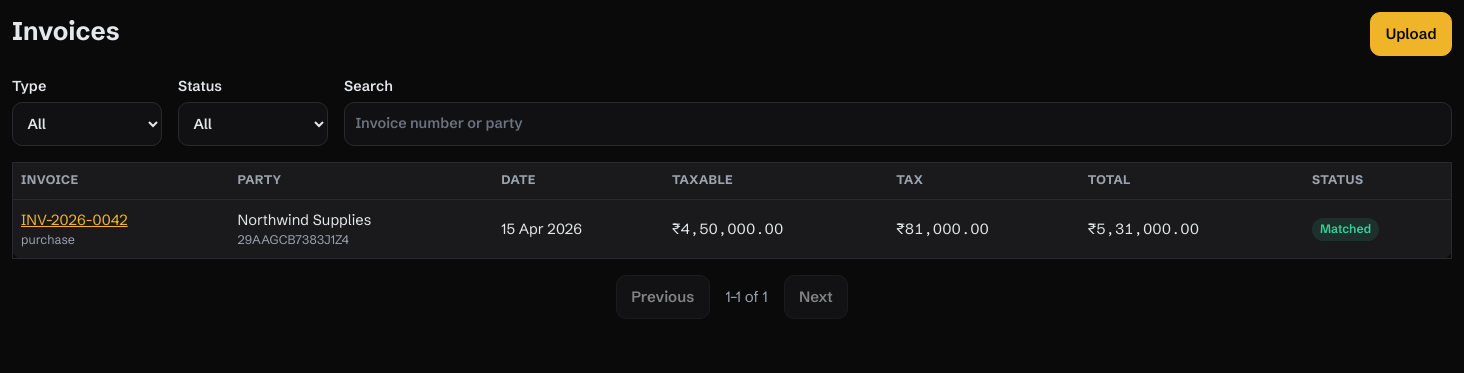
Test: InvoicesPage › when a filter matches nothing › does not tell a stocked book that it is empty
The image size is (1464, 373).
Expected: the link "INV-2026-0042" is shown, [21, 211, 128, 229]
Type "zzz" into the search field at (898, 124), box [344, 102, 1452, 146]
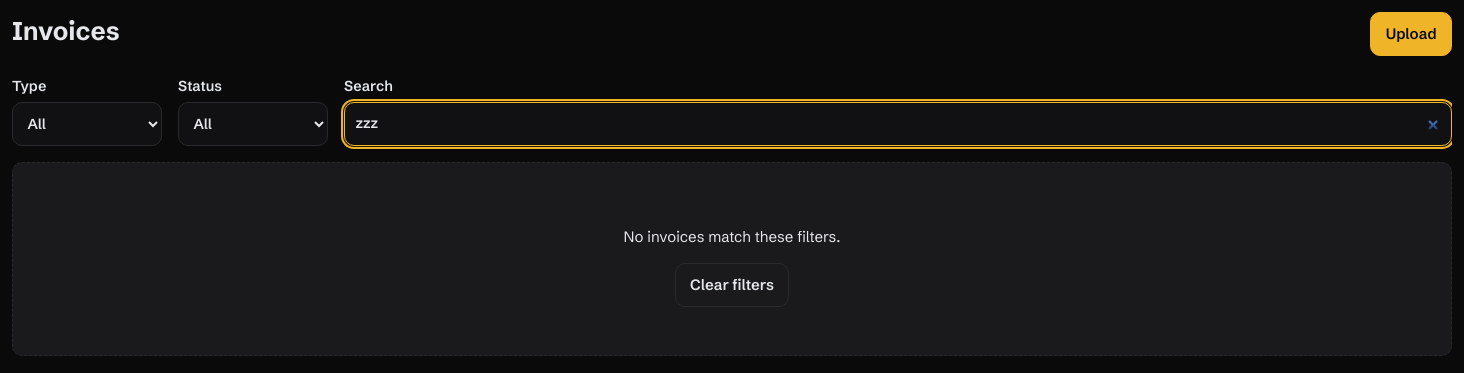
Expected: the text "No invoices match these filters." is shown, [624, 227, 840, 246]
